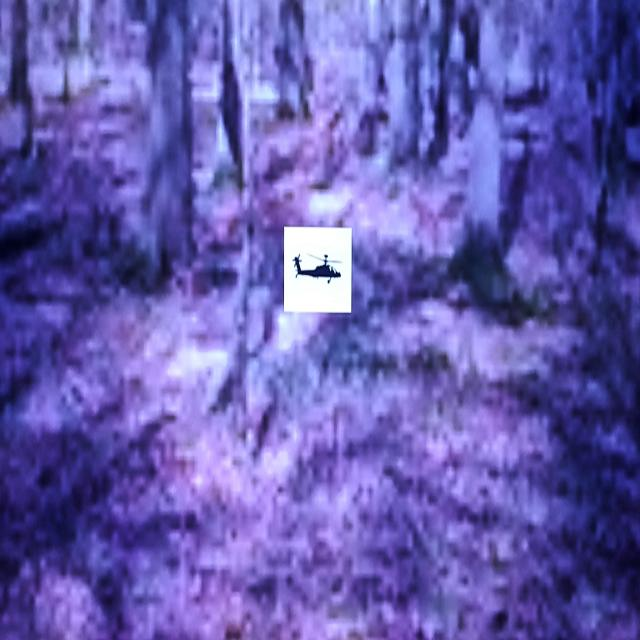Apache friendly: (294, 255, 340, 282)
